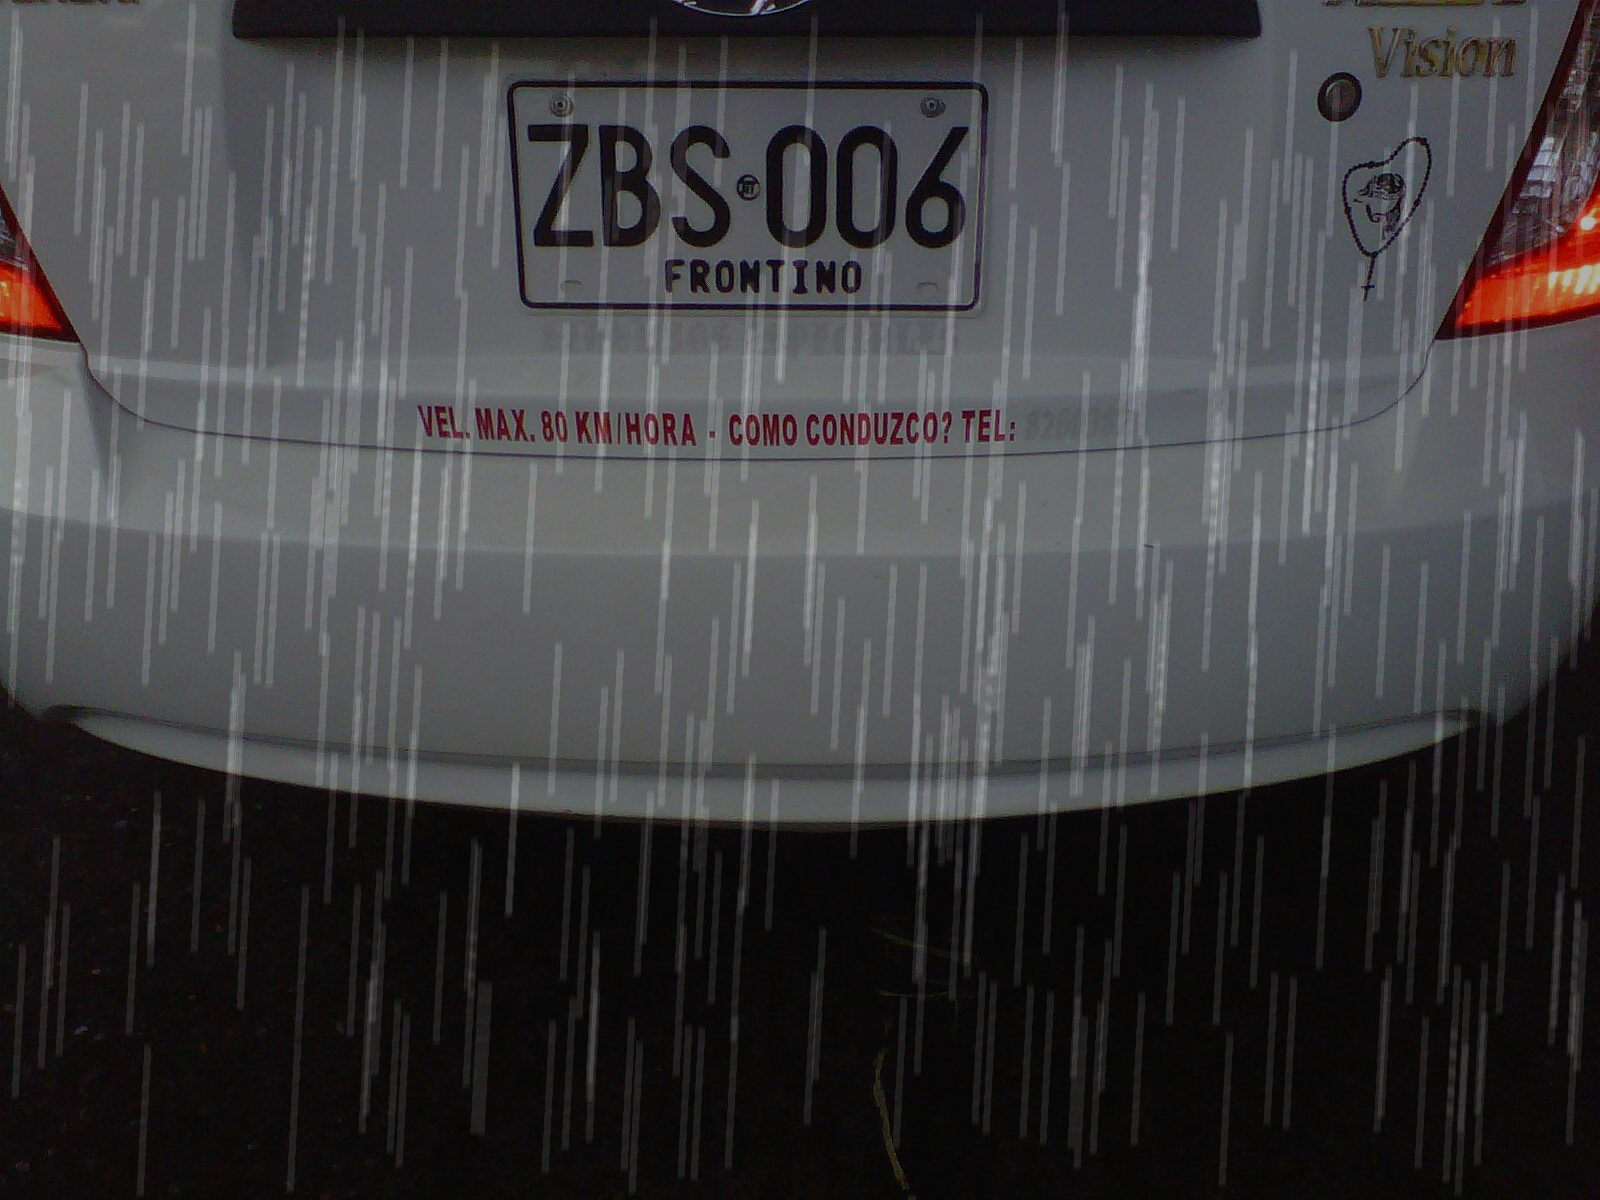placas: (493, 61, 1006, 329)
